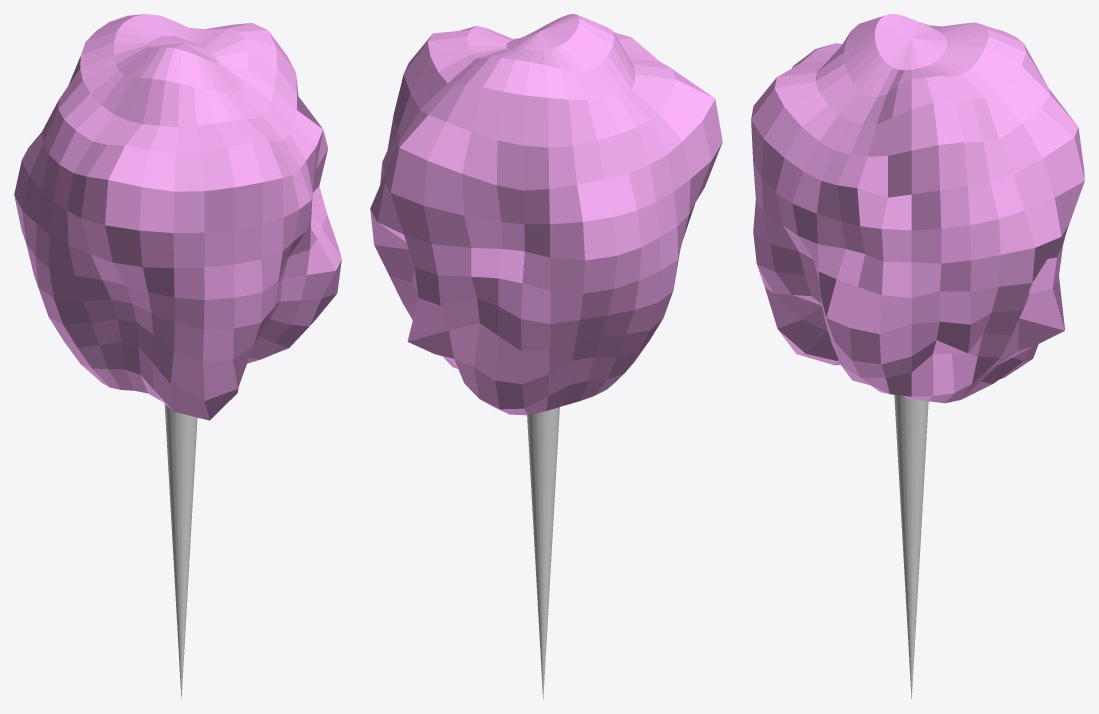
Rendered from Cotton candy.gltf.
3 views of the same model, side by side, from view 1: azimuth 30°, elevation 25°; view 2: azimuth 150°, elevation 25°; view 3: azimuth 270°, elevation 25° (orthographic).
Visible parts, largest first — view 1: node-0; view 2: node-0; view 3: node-0.
Boxes of the visible parts, box(x1,y1,x2,y2) form: node-0: box(14, 14, 341, 699); node-0: box(370, 14, 722, 699); node-0: box(751, 14, 1084, 698).
Size of the model in its own units: 653855 by 1521875 by 683223.
